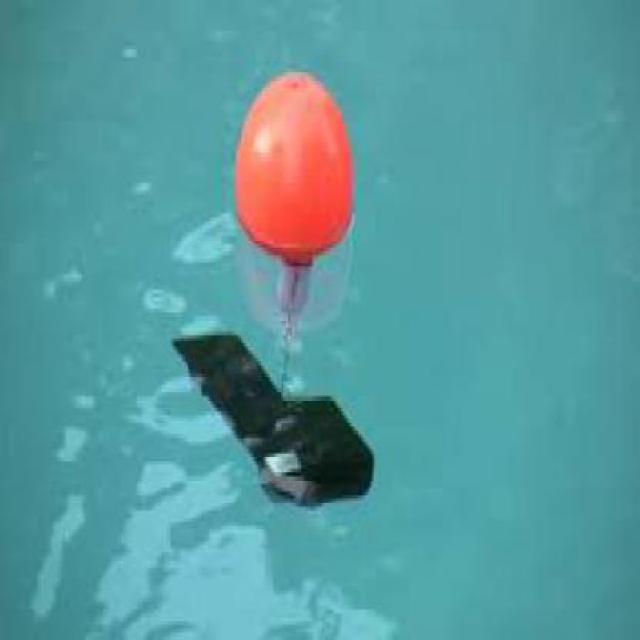buoy: (219, 62, 380, 508)
